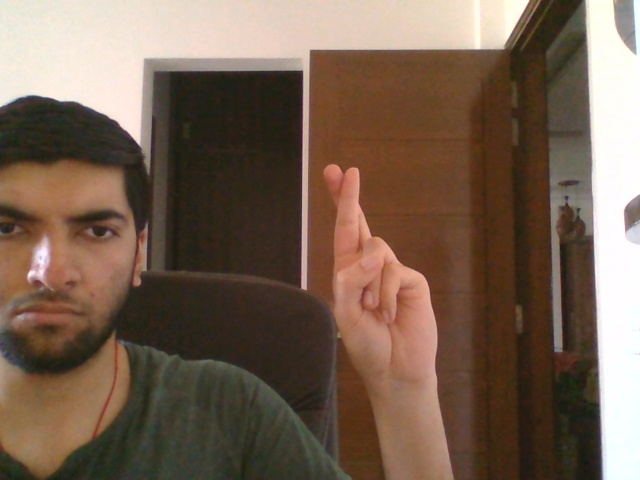LetterR: (323, 162, 441, 386)
